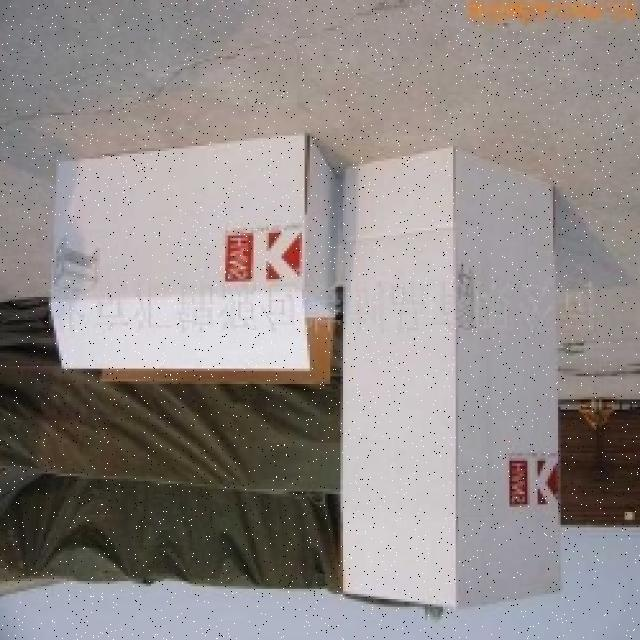box: (347, 141, 577, 607), (51, 120, 358, 392)
